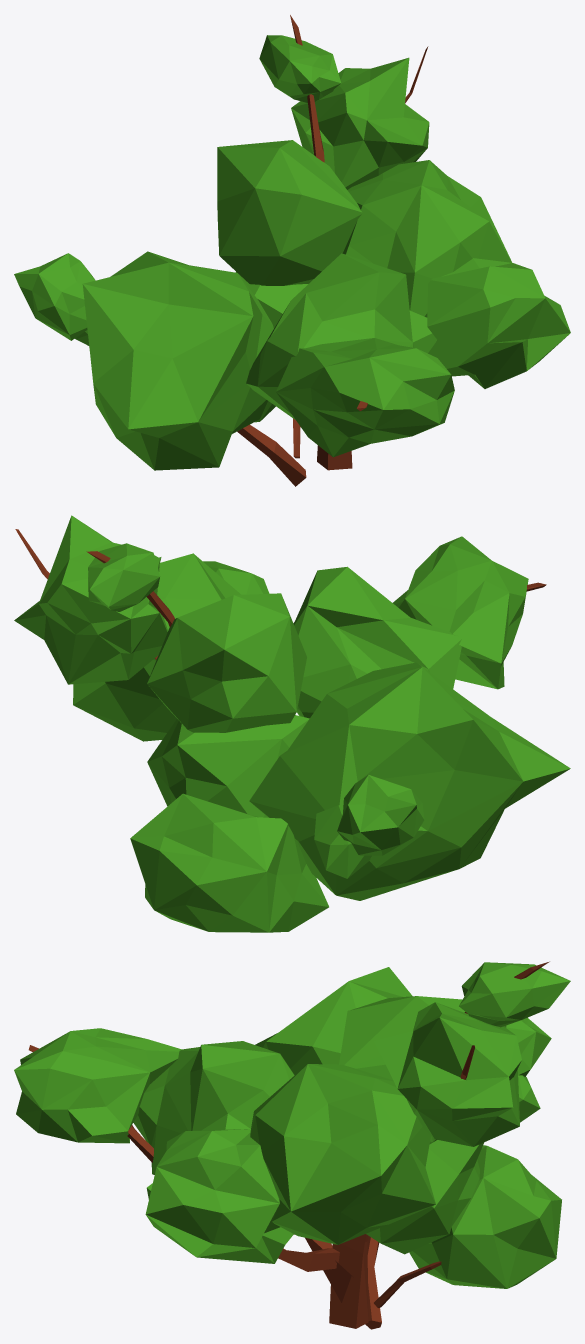
The model's file is Bush_001_1.FBX.
The picture shows the model from 3 angles, top to bottom: view 1: azimuth 30°, elevation 25°; view 2: azimuth 150°, elevation 25°; view 3: azimuth 270°, elevation 25°; orthographic projection. The views are drawn at different scales.
Parts seen in each view (by area): view 1: Leaf001, Leaf003, Leaf007, Leaf008, Leaf004, Leaf002, Leaf005, Leaf009, Leaf012, Branch003, Branch001, Leaf010; view 2: Leaf001, Leaf006, Leaf003, Leaf002, Leaf005, Leaf007, Leaf010, Leaf008, Leaf009, Leaf012, Leaf011, Leaf004; view 3: Leaf008, Leaf004, Leaf005, Leaf007, Leaf006, Leaf002, Leaf001, Leaf010, Leaf012, Leaf003, Branch001, Leaf009 (+5 smaller).
Part boxes in pixels (box(x1,y1,x2,y2)): Leaf001: box(82, 251, 273, 470); Leaf003: box(217, 140, 362, 285); Leaf007: box(276, 338, 454, 457); Leaf008: box(342, 160, 512, 317); Leaf004: box(427, 258, 570, 388); Leaf002: box(246, 253, 437, 419); Leaf005: box(291, 57, 429, 189); Leaf009: box(14, 253, 95, 340); Leaf012: box(259, 35, 340, 102); Branch003: box(237, 424, 306, 486); Branch001: box(290, 15, 352, 470); Leaf010: box(235, 272, 307, 327); Leaf001: box(249, 662, 570, 900); Leaf006: box(130, 793, 328, 932); Leaf003: box(147, 593, 306, 732); Leaf002: box(293, 566, 461, 718); Leaf005: box(14, 515, 167, 684); Leaf007: box(393, 536, 528, 689); Leaf010: box(147, 715, 309, 817); Leaf008: box(73, 553, 240, 741); Leaf009: box(337, 774, 424, 855); Leaf012: box(88, 543, 159, 611); Leaf011: box(314, 805, 371, 878); Leaf004: box(203, 561, 269, 594); Leaf008: box(250, 1064, 435, 1244); Leaf004: box(145, 1129, 293, 1263); Leaf005: box(374, 1002, 521, 1146); Leaf007: box(14, 1028, 181, 1143); Leaf006: box(409, 1145, 561, 1288); Leaf002: box(133, 1041, 294, 1174); Leaf001: box(255, 967, 412, 1075); Leaf010: box(366, 1140, 483, 1254); Leaf012: box(459, 962, 570, 1027); Leaf003: box(339, 996, 465, 1143); Branch001: box(329, 961, 549, 1328); Leaf009: box(503, 1017, 551, 1076).
Size of the model in its own units: 12.02 by 10.75 by 13.26.
